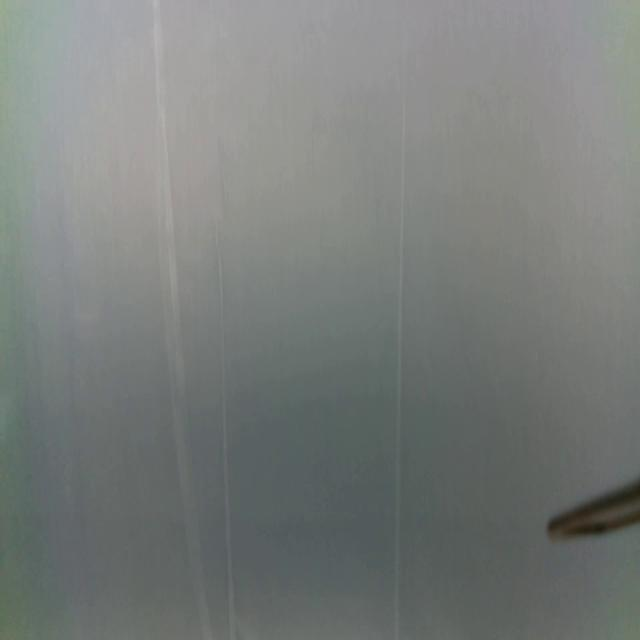crease: (151, 0, 211, 638), (215, 217, 237, 638), (392, 50, 407, 639)
